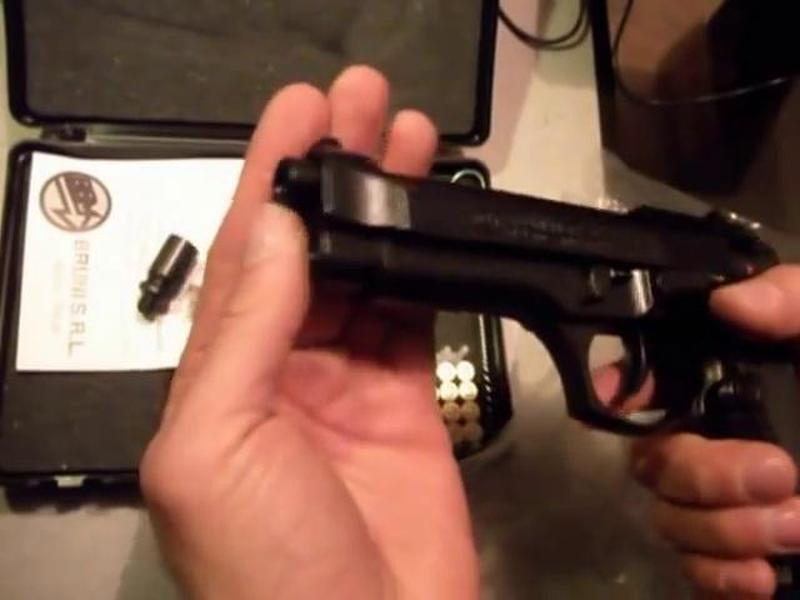Pistola: (253, 113, 800, 557)
